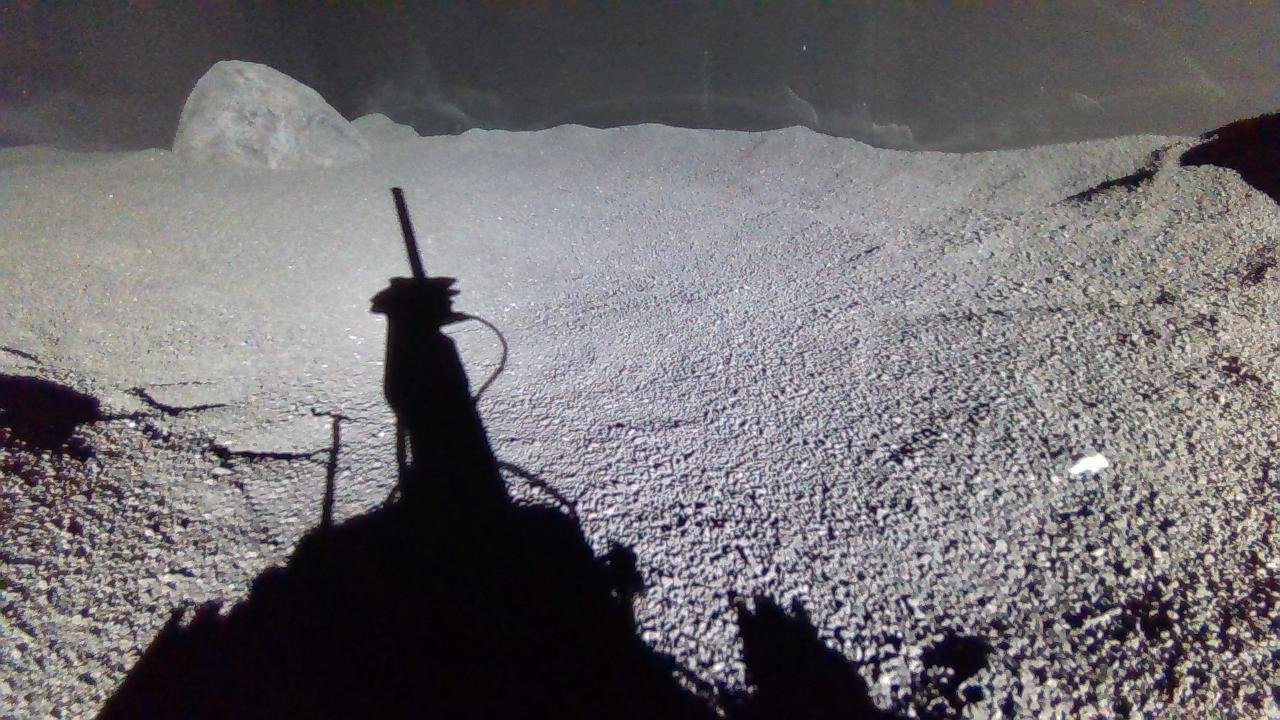rock: (172, 59, 370, 168)
